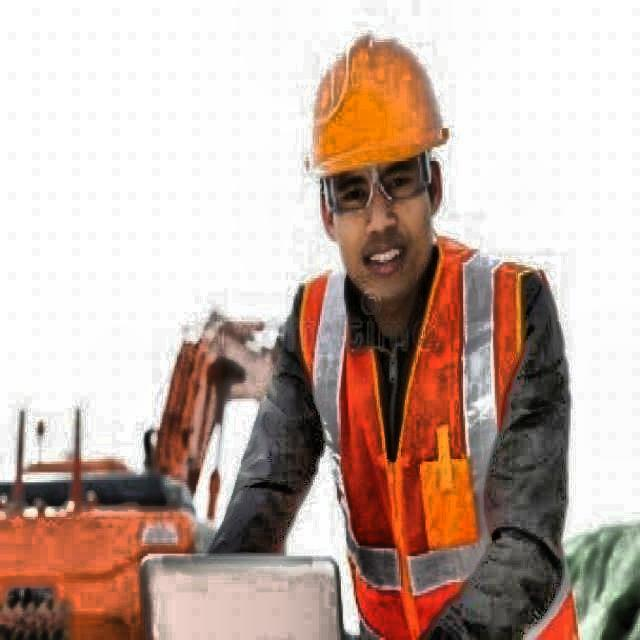bull_dozer/loader/grader: (0, 305, 277, 640), (302, 31, 452, 182)
person: (207, 31, 577, 640)
